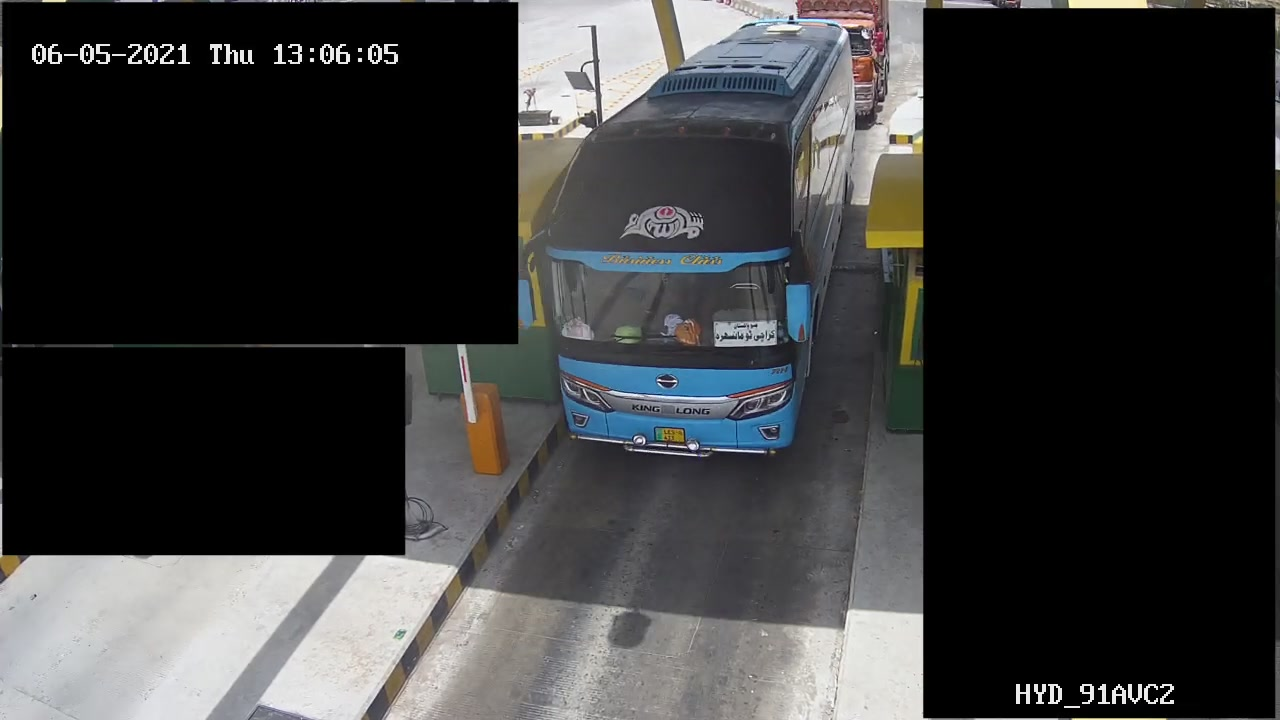F4: (545, 12, 862, 472)
